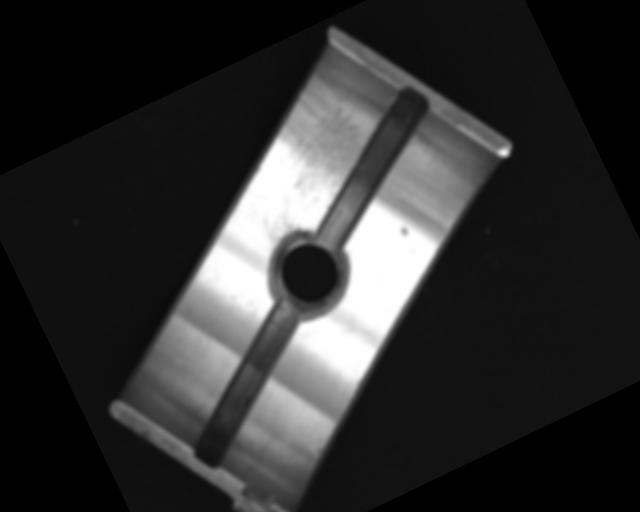bruise: (397, 223, 410, 238)
gap: (150, 293, 347, 474), (277, 81, 466, 252)
hole: (252, 216, 362, 326)
scratch: (205, 65, 396, 258)
